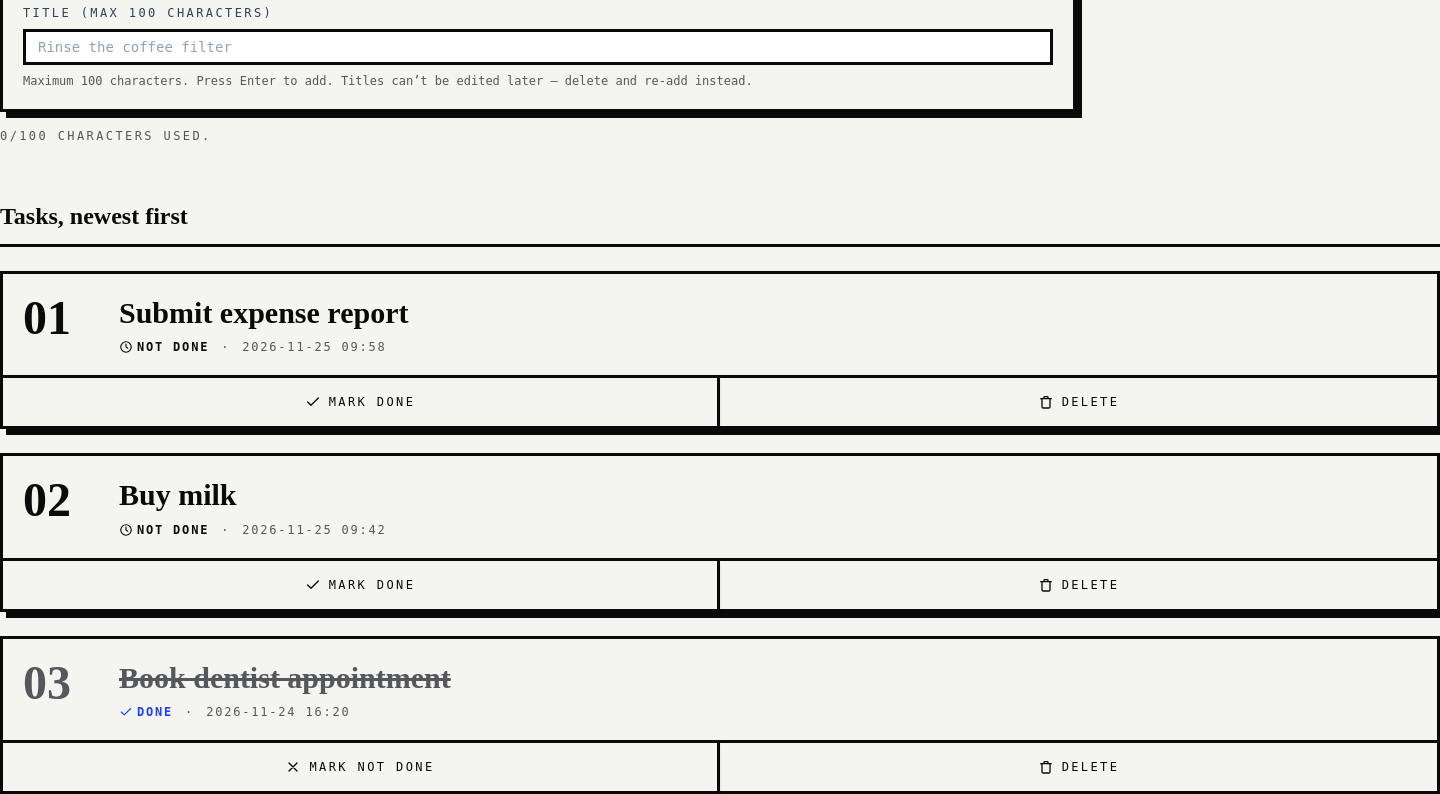
Test case: Tasks — delete a task after confirming › [AC-017] reports a deletion the server refused
(page scrolled)
Click the button with test id "delete-btn": (1078, 584) [720,560,1437,608]
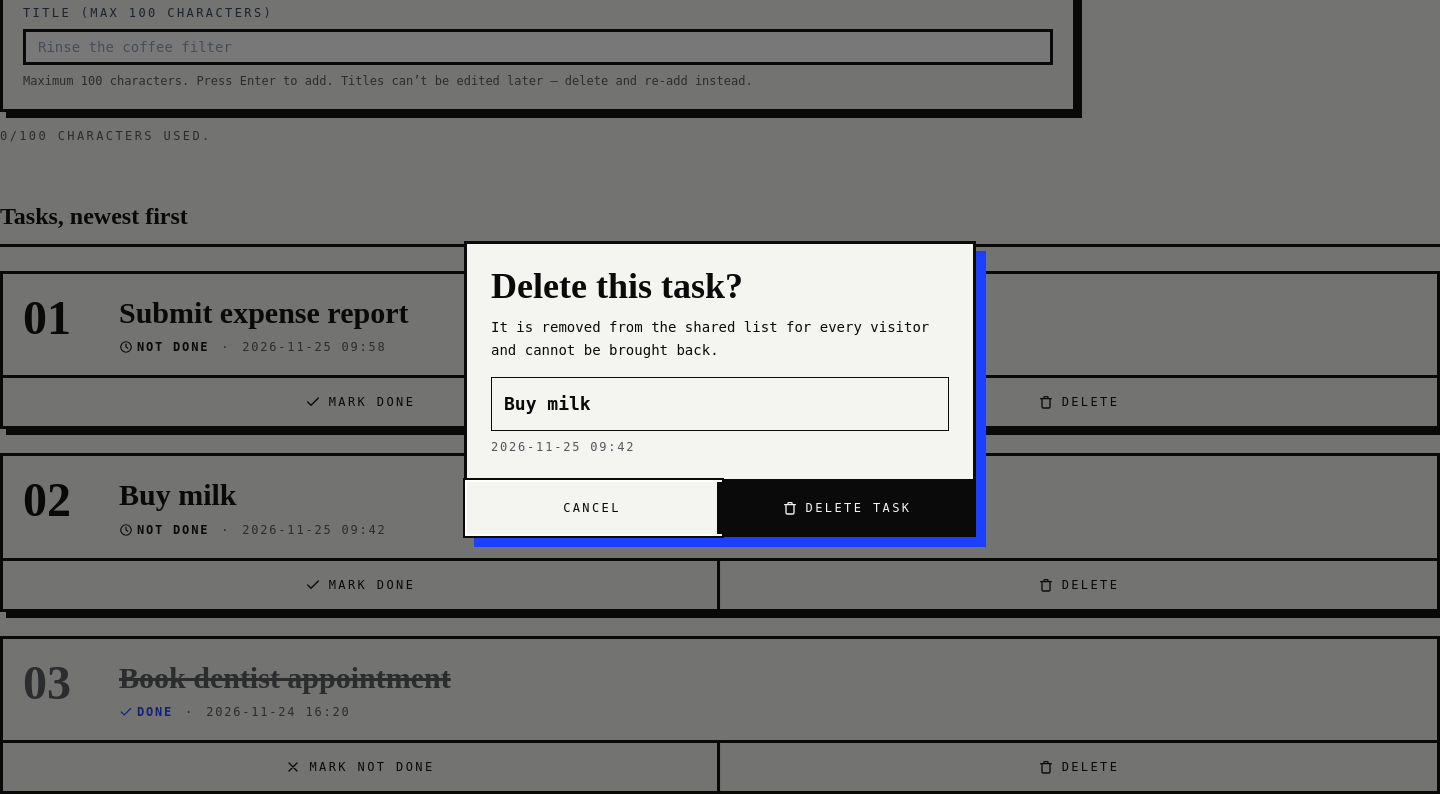
Click the button with test id "delete-task-btn": (846, 508) [720,482,973,534]
(page scrolled)
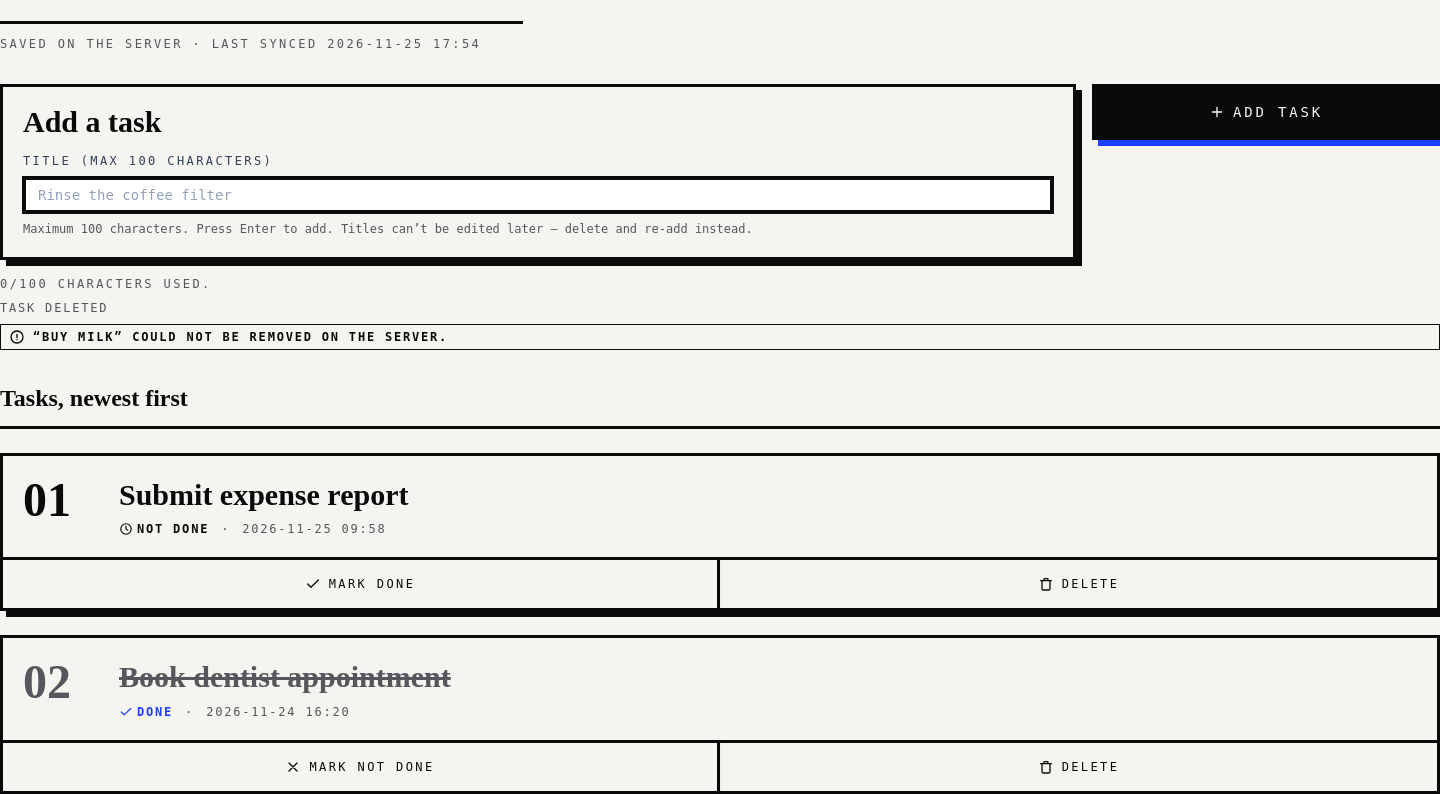
Expected: the text "“Buy milk” could not be removed on the server." is shown, [0,324,1439,350]
